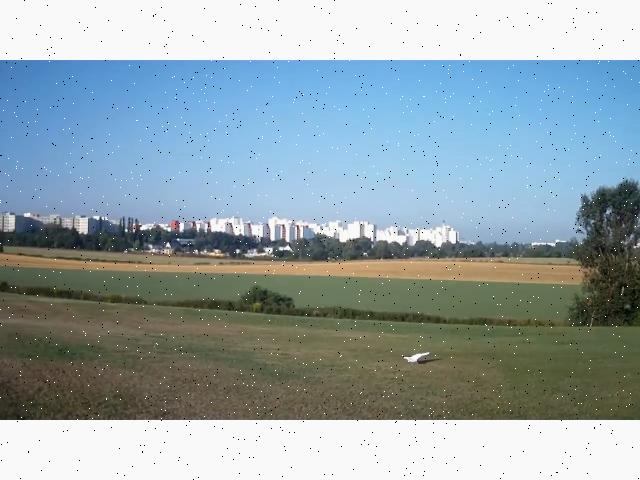Anti-Drone: (392, 338, 436, 370)
